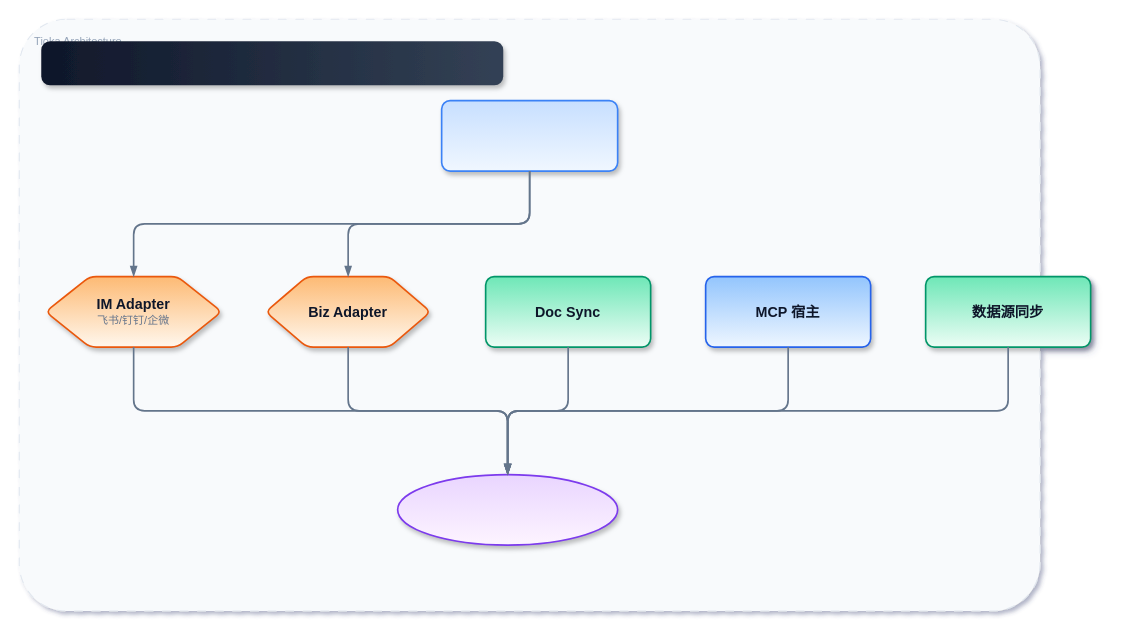
Image size: 1124x637. Some labels were removed from this diagram. The shapes that lost their labels are listed below. From the top down, each one's centre as x and y in pixels, then its label:
At point (272, 64): "连接器出网边界".
At point (530, 137): "Adapter SPI S9".
At point (508, 511): "出网唯一边界".
